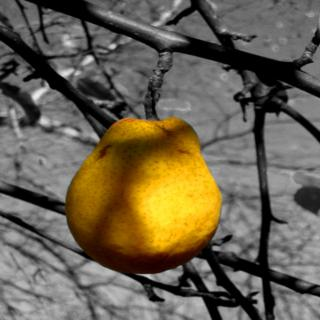Pear: (66, 116, 222, 274)
